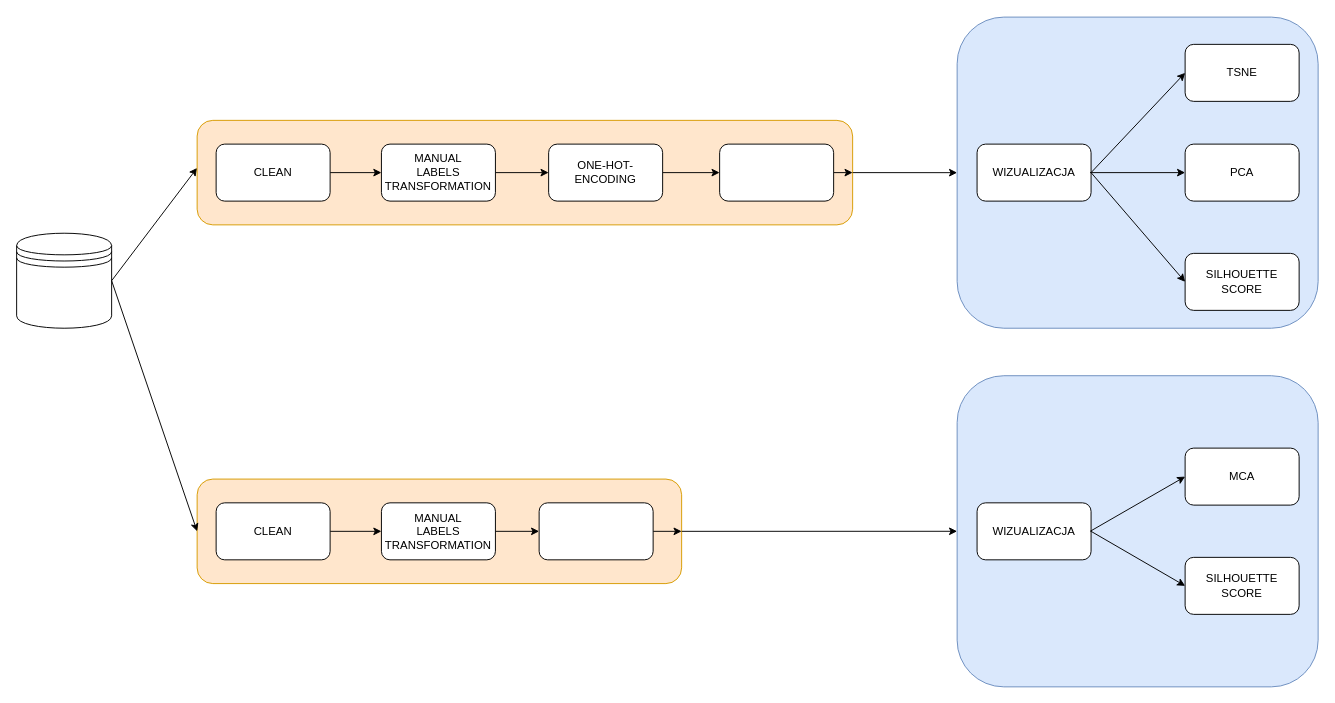
Some shapes in this 1335 by 703 pixel diagram are drawn without their labels. Each missing label, with the centre of its shape:
"DATA" belongs at (x=64, y=280).
"KMEANS" belongs at (x=776, y=172).
"KMODES" belongs at (x=595, y=531).
